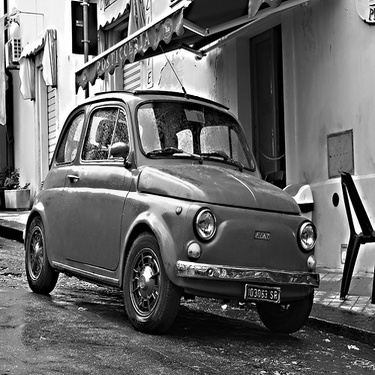car: (9, 83, 327, 332)
